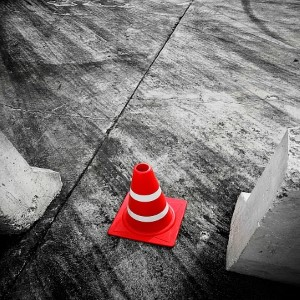traffic cone: (106, 163, 187, 248)
